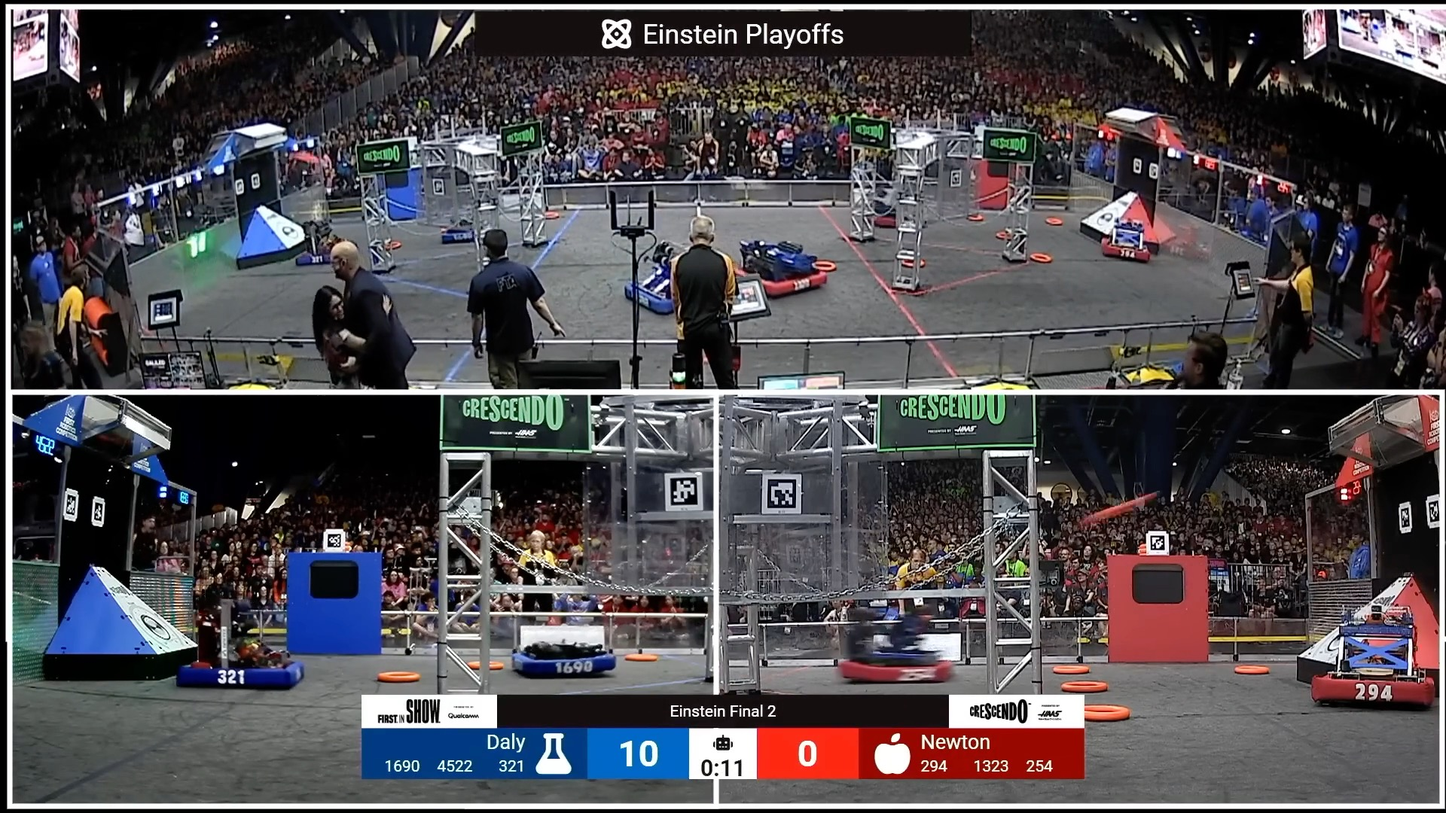bumpers: (833, 639, 956, 691), (187, 652, 317, 698), (1306, 664, 1438, 709), (733, 249, 840, 304), (1085, 215, 1181, 268), (503, 644, 627, 683), (291, 238, 354, 273), (432, 217, 490, 250)
